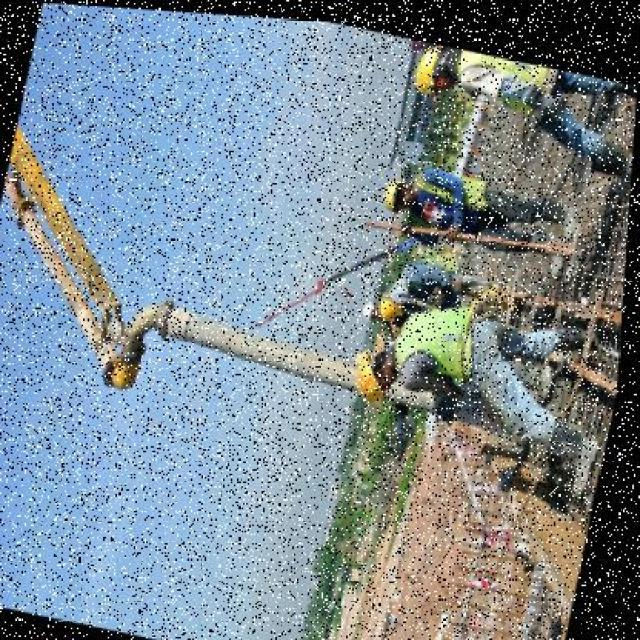helmet: (412, 34, 442, 96), (383, 165, 403, 205)
vest: (394, 271, 497, 389)
